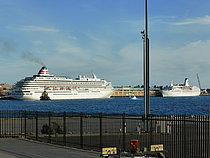Ship: (4, 64, 119, 105), (156, 79, 207, 100)
